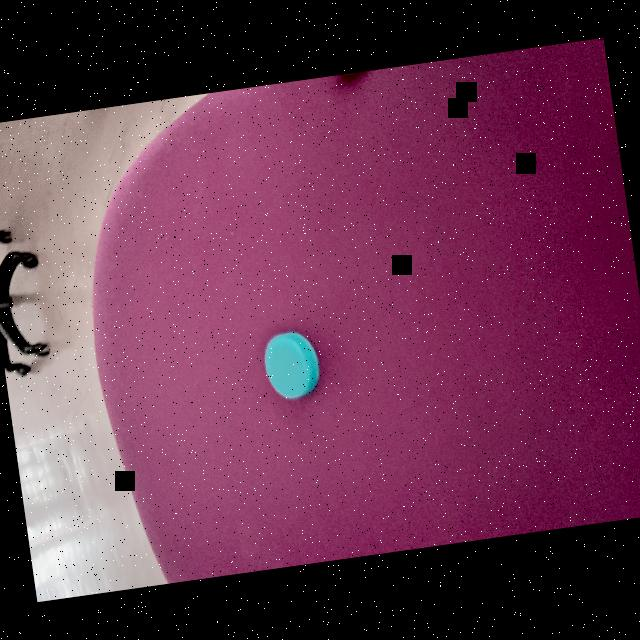plastic_bottle_cap: (250, 323, 326, 405)
